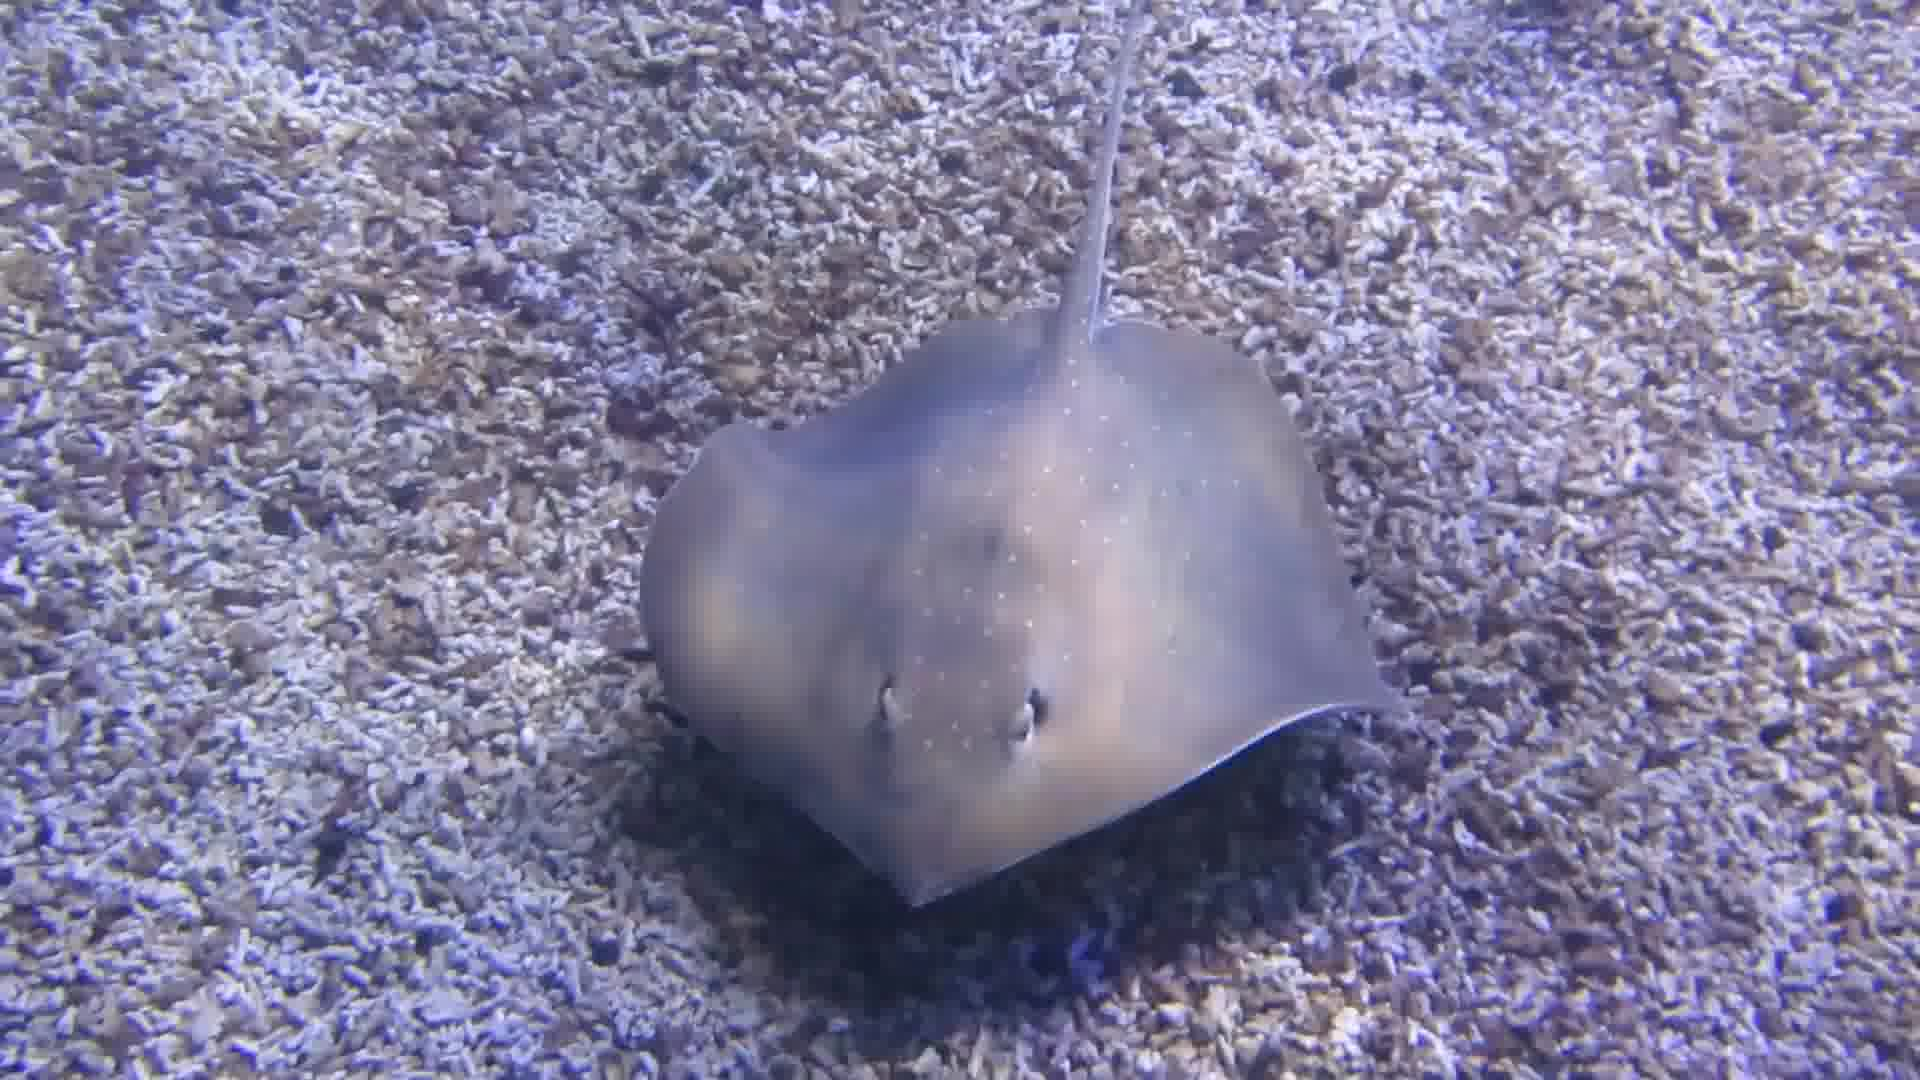Himantura gerrardi: (636, 1, 1510, 911)
